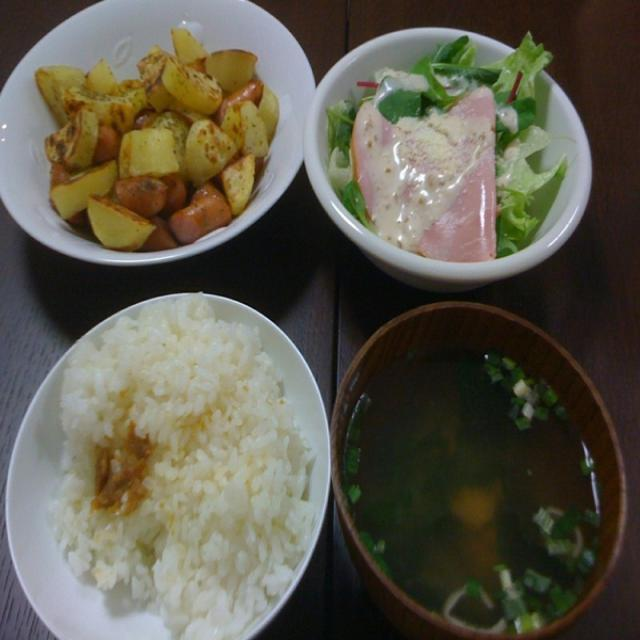Rice: (16, 272, 348, 640)
